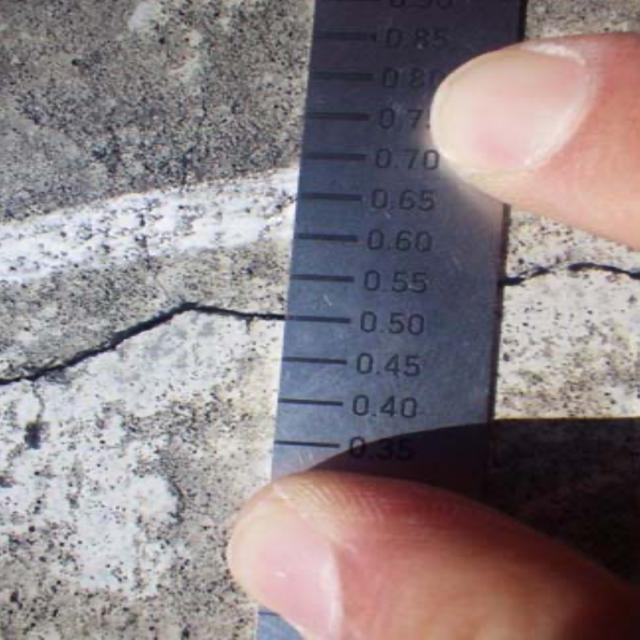crack: (8, 293, 283, 397), (505, 248, 640, 310)
